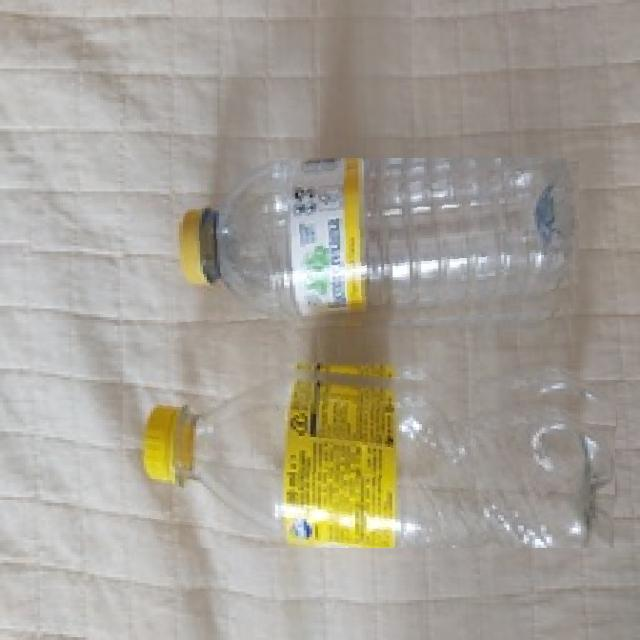plastic bottle: (137, 353, 616, 548), (165, 158, 579, 338)
